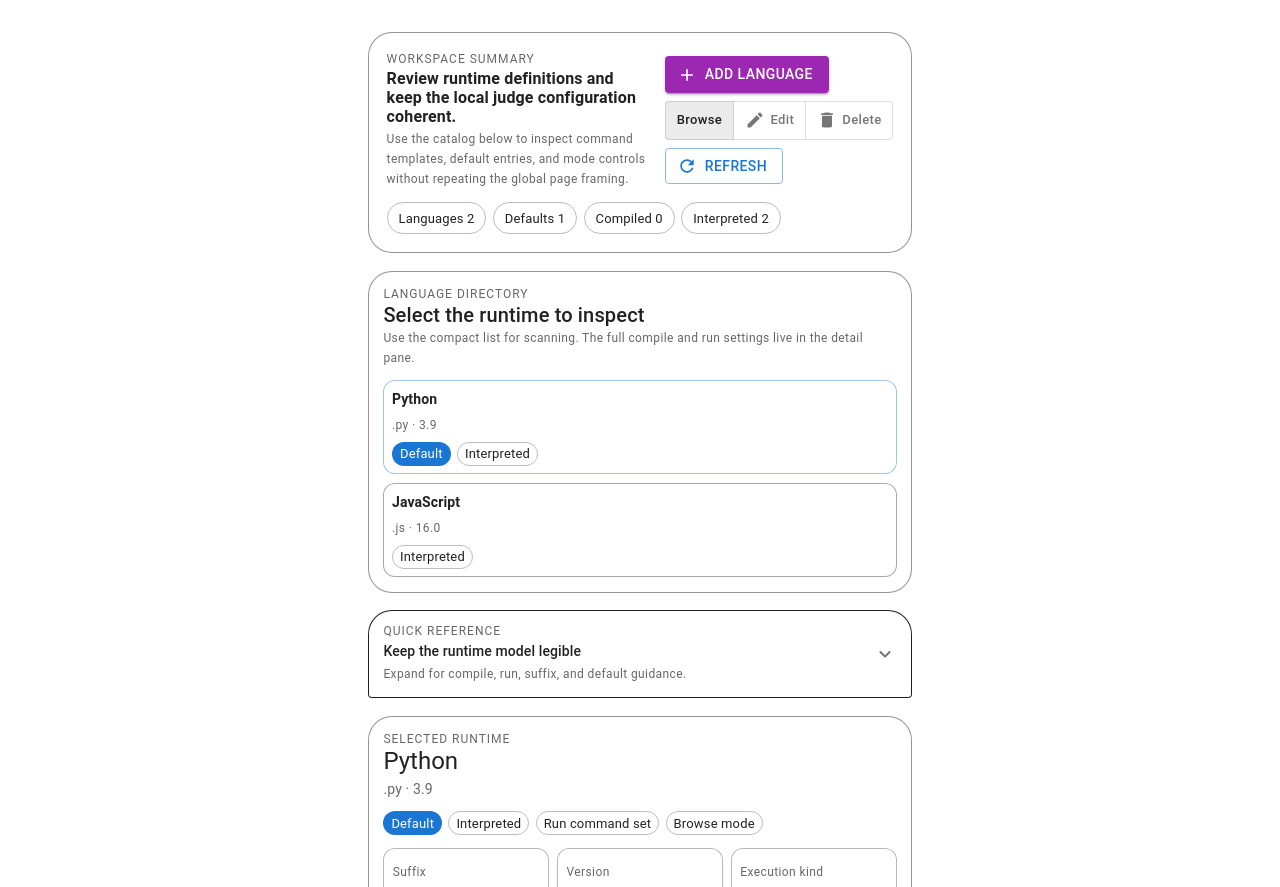
Test case: LanguageAdmin Component › adds a new language successfully
Click Add button
Click the button "Add language" at (747, 75), box left=665, top=56, right=829, bottom=93
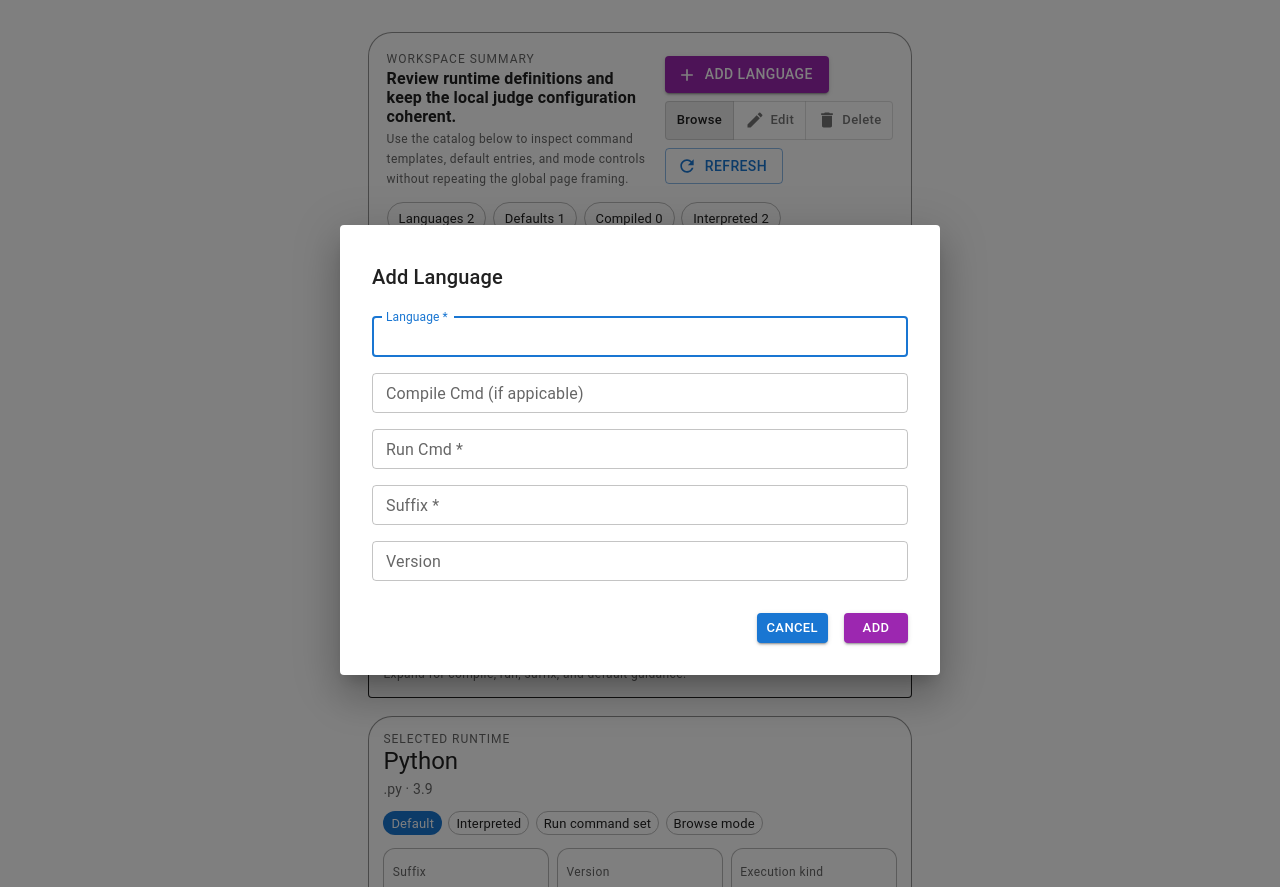
Type "New Language" into the field labelled "Language *" at (640, 337), box left=372, top=317, right=908, bottom=357
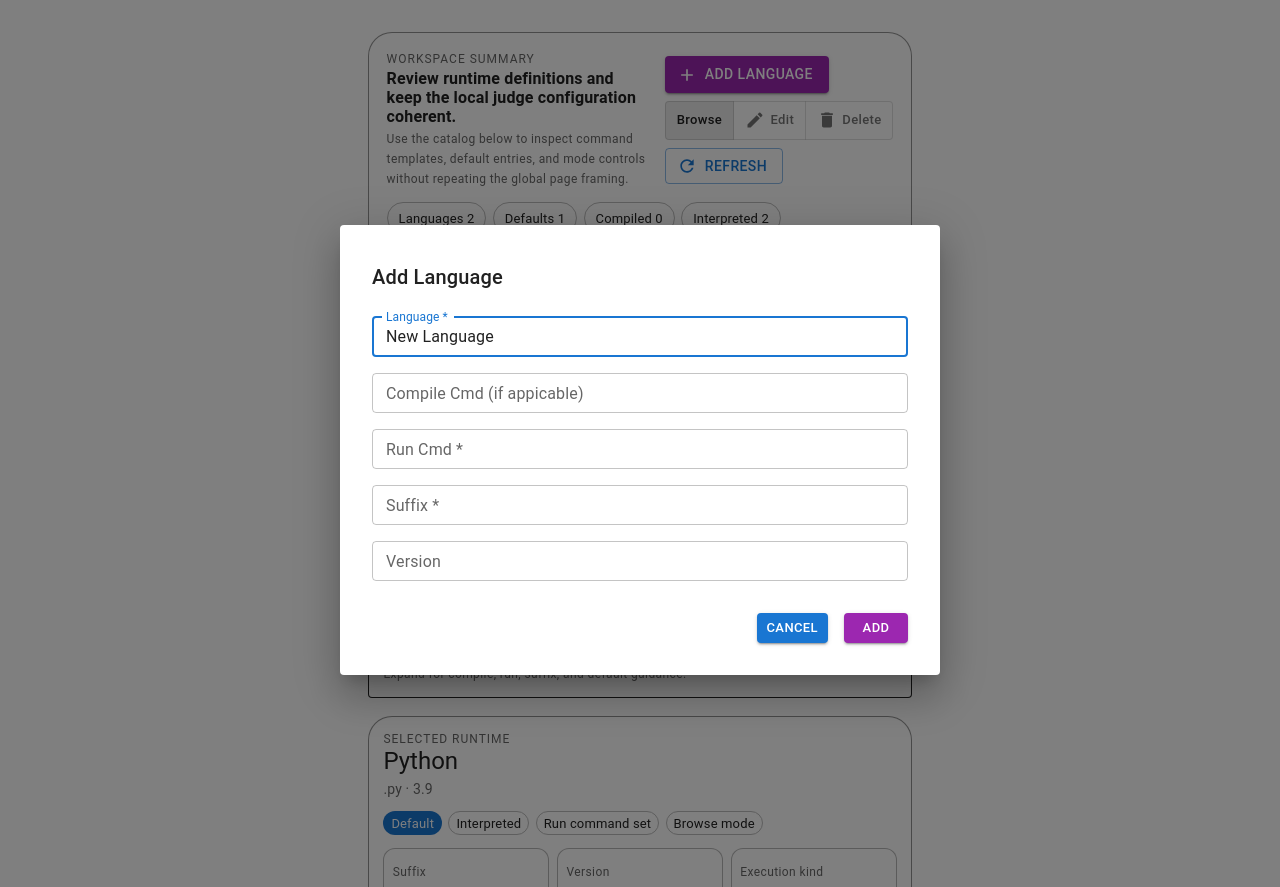
Type "run" into the field labelled "Run Cmd *" at (640, 449), box left=372, top=429, right=908, bottom=469
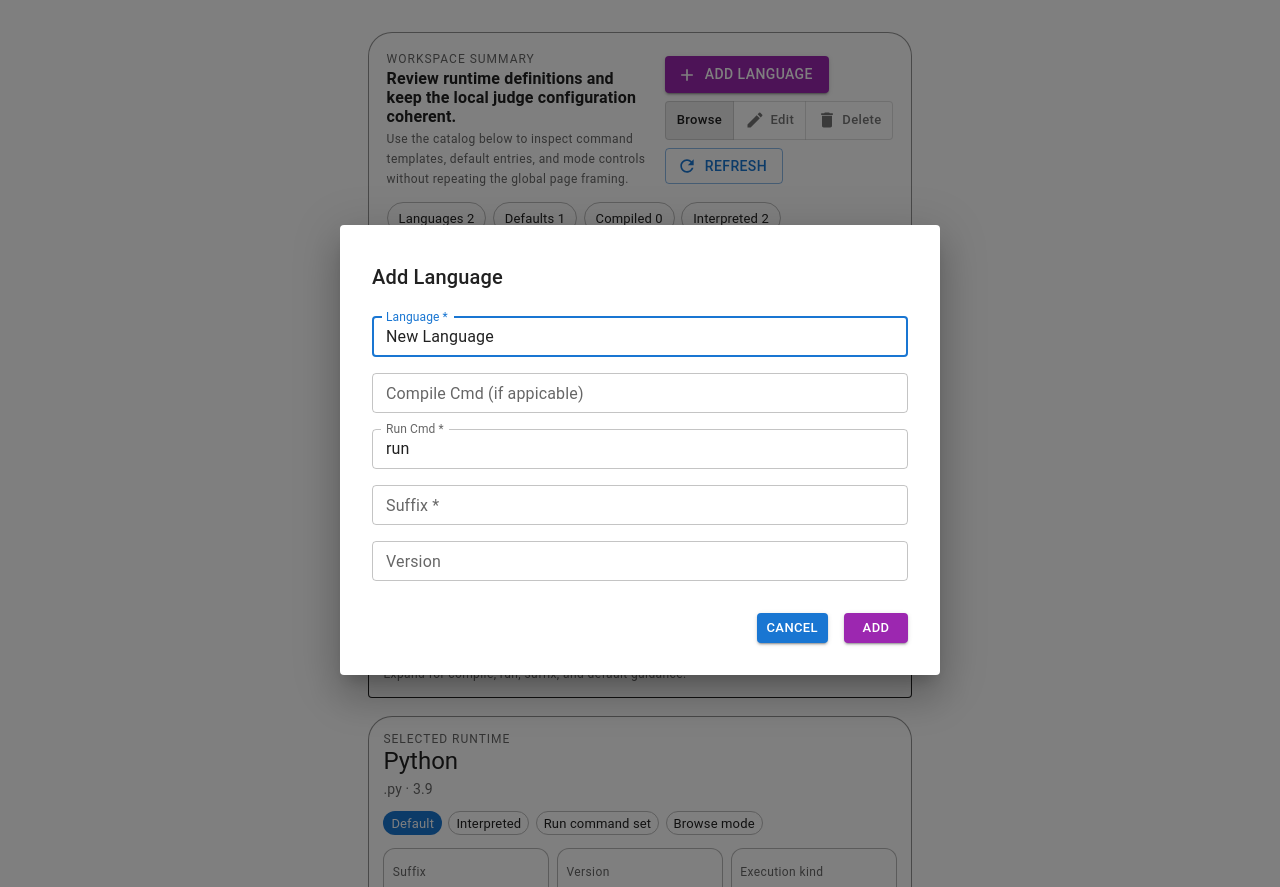
Type ".ext" into the field labelled "Suffix *" at (640, 505), box left=372, top=485, right=908, bottom=525
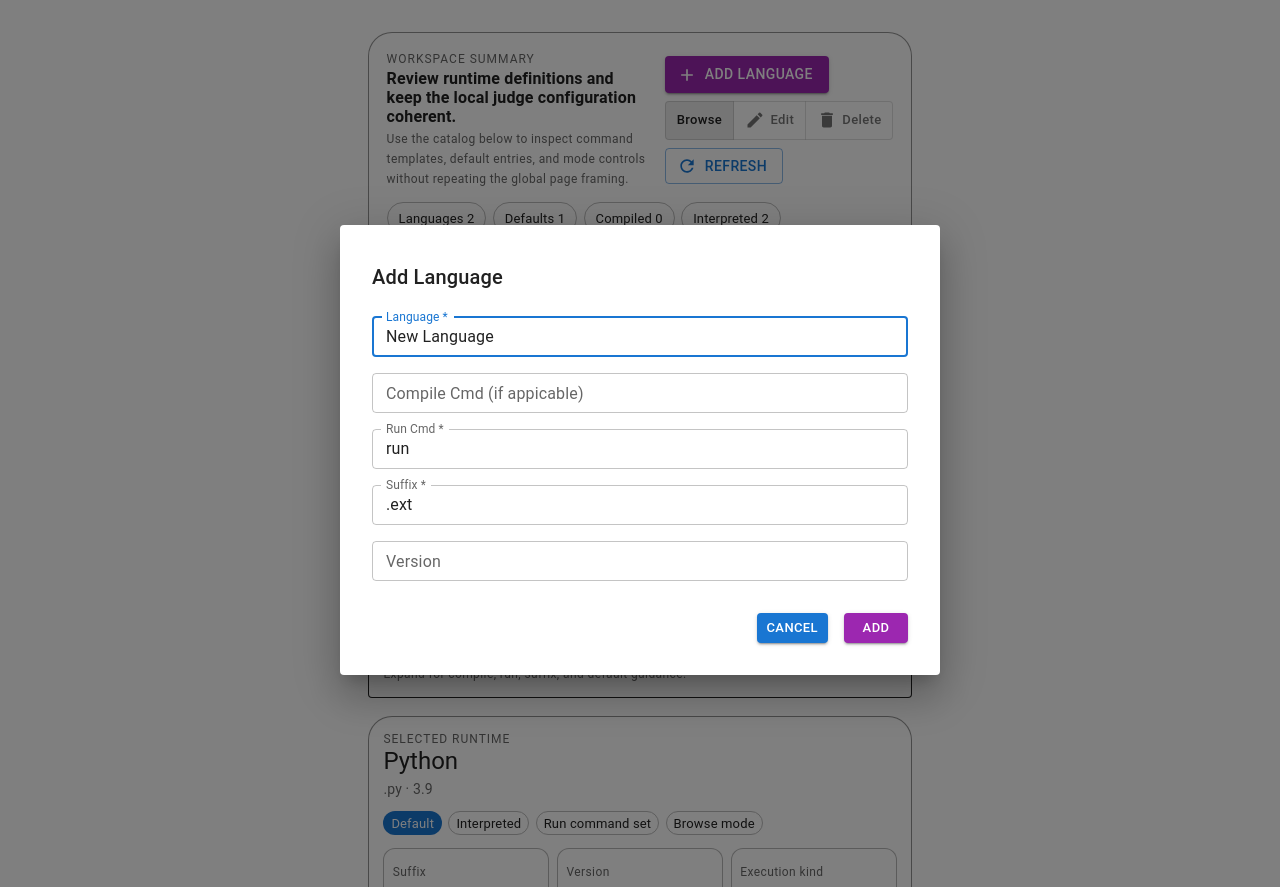
Submit the form
Click the button "Add" at (876, 628), box left=844, top=613, right=908, bottom=643
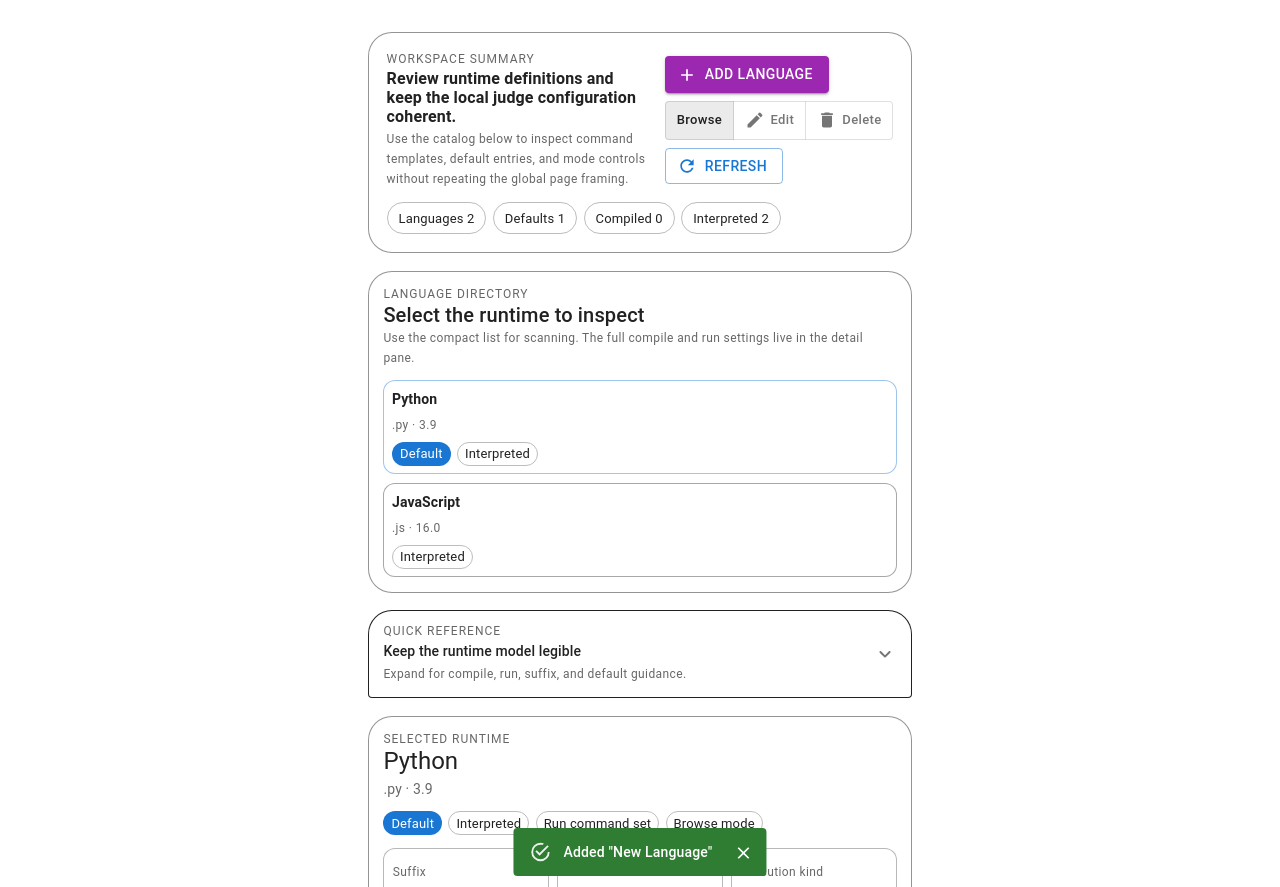
Check: the text "Added \"New Language\"" is shown, box left=564, top=844, right=713, bottom=860
